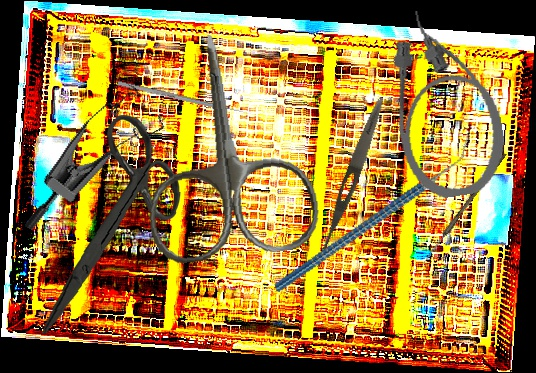Cannula: (381, 0, 512, 204)
Chopper: (250, 136, 495, 293)
Dressing Forceps: (311, 97, 388, 271)
Iris Scissors: (126, 24, 324, 267), (29, 112, 189, 334)
Pusher: (117, 80, 252, 117)
Speculum: (21, 68, 176, 263)
Surgical Spoon: (420, 151, 507, 267)
